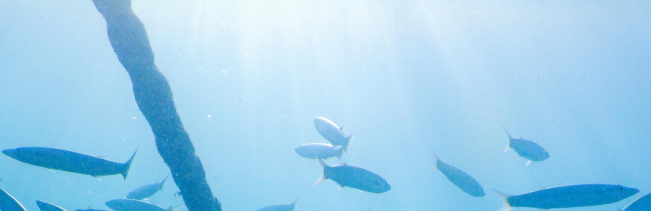fishLarge: (489, 174, 639, 210), (2, 143, 142, 181), (312, 153, 391, 194), (430, 149, 485, 198), (501, 125, 550, 167), (313, 114, 355, 152), (105, 196, 179, 211), (123, 176, 166, 199), (295, 142, 344, 159)
